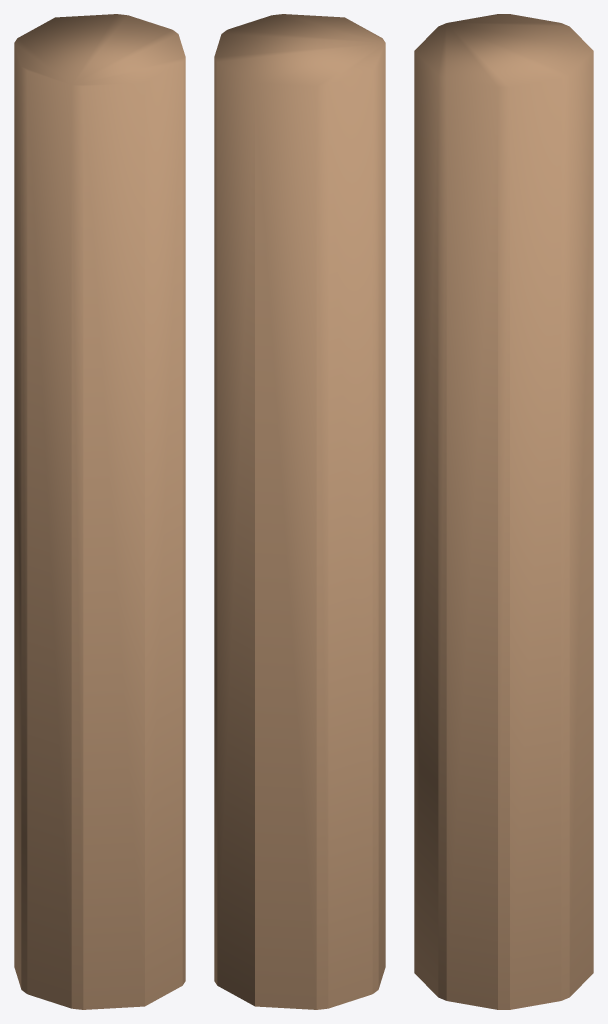
Rendered from signPole.fbx.
3 views of the same model, side by side, from view 1: azimuth 30°, elevation 25°; view 2: azimuth 150°, elevation 25°; view 3: azimuth 270°, elevation 25° (orthographic).
Visible parts, largest first — view 1: sign; view 2: sign; view 3: sign.
Boxes of the visible parts, <box> form: sign: <box>14,14,185,1009</box>; sign: <box>214,14,385,1009</box>; sign: <box>414,14,593,1009</box>.
Size of the model in its own units: 195 by 1136 by 200.
Materials: 1 (1 with a texture image).
